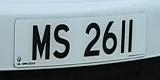1: (124, 16, 136, 57), (118, 17, 128, 58)
2: (81, 22, 103, 60)
6: (101, 19, 119, 58)
M: (30, 19, 53, 67)
S: (53, 19, 74, 65)
